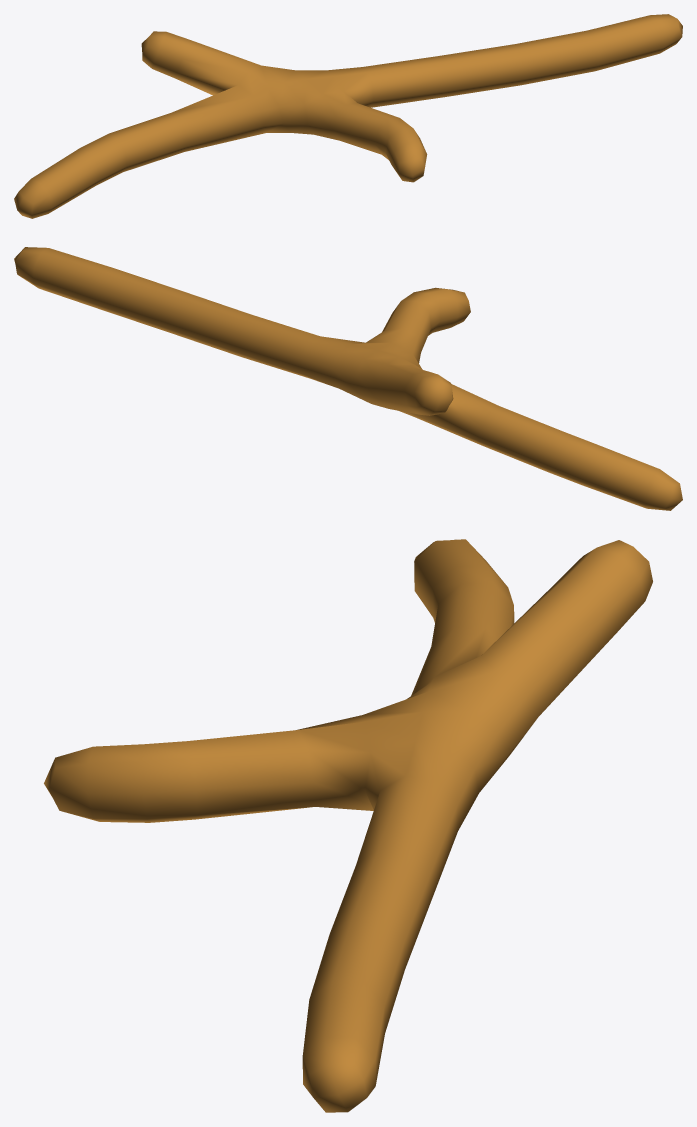
The model's file is StickV3.fbx.
3 renders of one model, top to bottom at view 1: azimuth 30°, elevation 25°; view 2: azimuth 150°, elevation 25°; view 3: azimuth 270°, elevation 25°, orthographic. The views are drawn at different scales.
Parts seen in each view (by area): view 1: StickV3; view 2: StickV3; view 3: StickV3.
Boxes of the visible parts, bbox=[...] form: StickV3: bbox=[14, 14, 682, 218]; StickV3: bbox=[14, 247, 682, 510]; StickV3: bbox=[44, 539, 652, 1112].
Bounding box in the file's own units: 41.67 × 6.77 × 17.17.
